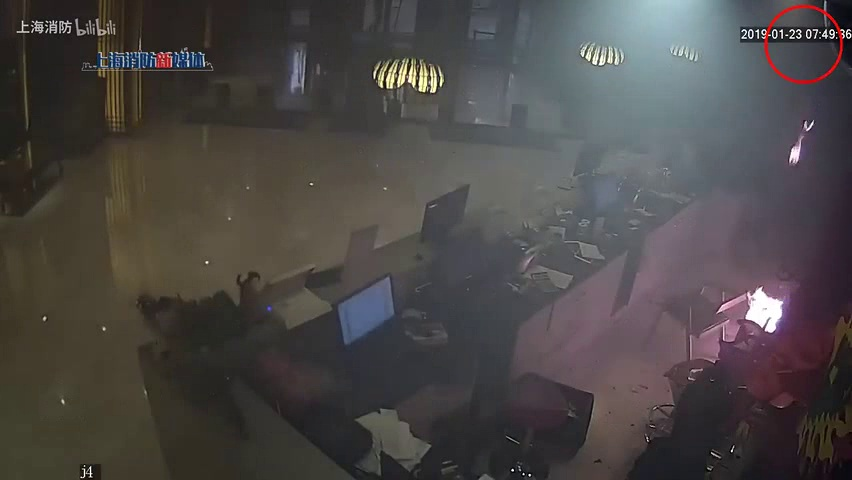fire: (741, 282, 787, 340)
